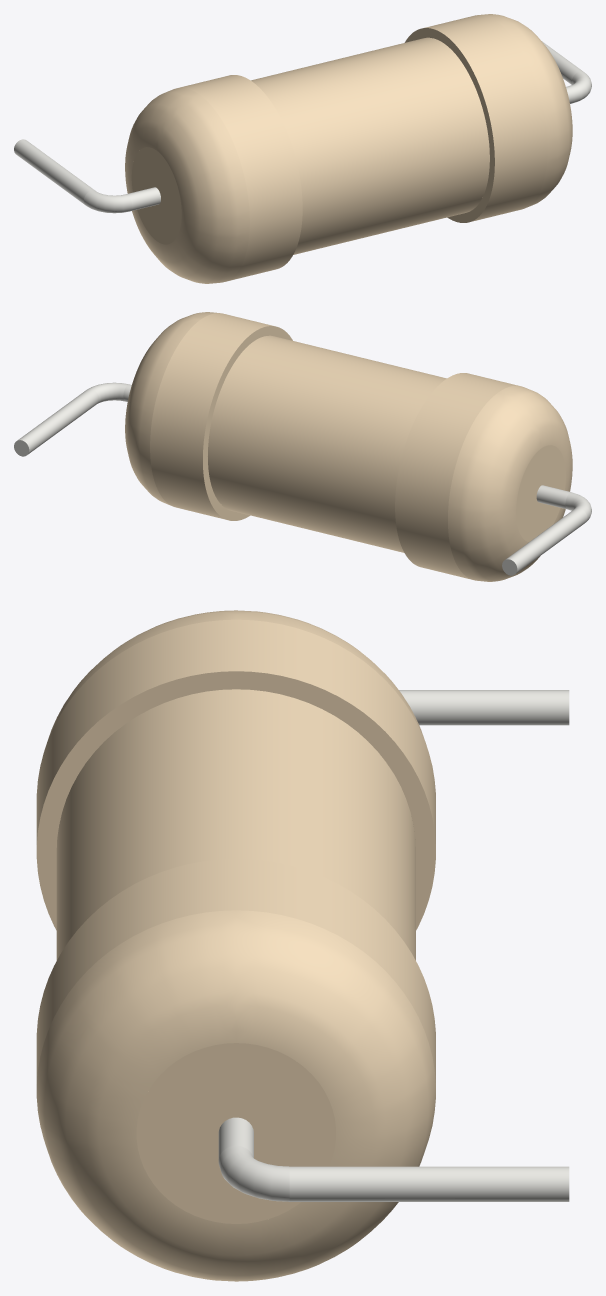
The model's file is R_Axial_DIN0922_L20.0mm_D9.0mm_P25.40mm_Horizontal.glb.
The picture shows the model from 3 angles, top to bottom: view 1: azimuth 30°, elevation 25°; view 2: azimuth 150°, elevation 25°; view 3: azimuth 270°, elevation 25°; orthographic projection. The views are drawn at different scales.
Visible parts, largest first — view 1: Shape_IndexedFaceSet.004, Shape_IndexedFaceSet.001, Shape_IndexedFaceSet, Shape_IndexedFaceSet.008, Shape_IndexedFaceSet.010, Shape_IndexedFaceSet.003, Shape_IndexedFaceSet.006, Shape_IndexedFaceSet.009, Shape_IndexedFaceSet.007, Shape_IndexedFaceSet.005, Shape_IndexedFaceSet.014, Shape_IndexedFaceSet.015; view 2: Shape_IndexedFaceSet.004, Shape_IndexedFaceSet.001, Shape_IndexedFaceSet, Shape_IndexedFaceSet.008, Shape_IndexedFaceSet.010, Shape_IndexedFaceSet.003, Shape_IndexedFaceSet.006, Shape_IndexedFaceSet.009, Shape_IndexedFaceSet.015, Shape_IndexedFaceSet.005, Shape_IndexedFaceSet.014, Shape_IndexedFaceSet.007; view 3: Shape_IndexedFaceSet.010, Shape_IndexedFaceSet.004, Shape_IndexedFaceSet.012, Shape_IndexedFaceSet.008, Shape_IndexedFaceSet, Shape_IndexedFaceSet.002, Shape_IndexedFaceSet.015, Shape_IndexedFaceSet.009, Shape_IndexedFaceSet.001, Shape_IndexedFaceSet.014, Shape_IndexedFaceSet.013.
Boxes of the visible parts, left/top/right/bottom form: Shape_IndexedFaceSet.004: left=251, top=37, right=489, bottom=254; Shape_IndexedFaceSet.001: left=125, top=87, right=249, bottom=283; Shape_IndexedFaceSet: left=179, top=75, right=302, bottom=281; Shape_IndexedFaceSet.008: left=423, top=15, right=547, bottom=221; Shape_IndexedFaceSet.010: left=480, top=14, right=572, bottom=207; Shape_IndexedFaceSet.003: left=131, top=147, right=181, bottom=244; Shape_IndexedFaceSet.006: left=404, top=28, right=494, bottom=222; Shape_IndexedFaceSet.009: left=14, top=139, right=95, bottom=204; Shape_IndexedFaceSet.007: left=84, top=190, right=132, bottom=213; Shape_IndexedFaceSet.005: left=126, top=187, right=160, bottom=210; Shape_IndexedFaceSet.014: left=568, top=71, right=591, bottom=102; Shape_IndexedFaceSet.015: left=542, top=41, right=583, bottom=84; Shape_IndexedFaceSet.004: left=208, top=335, right=446, bottom=552; Shape_IndexedFaceSet.001: left=448, top=385, right=572, bottom=581; Shape_IndexedFaceSet: left=395, top=373, right=518, bottom=579; Shape_IndexedFaceSet.008: left=150, top=313, right=274, bottom=519; Shape_IndexedFaceSet.010: left=125, top=312, right=217, bottom=505; Shape_IndexedFaceSet.003: left=516, top=445, right=565, bottom=541; Shape_IndexedFaceSet.006: left=203, top=326, right=292, bottom=520; Shape_IndexedFaceSet.009: left=505, top=508, right=587, bottom=573; Shape_IndexedFaceSet.015: left=17, top=389, right=98, bottom=454; Shape_IndexedFaceSet.005: left=536, top=485, right=570, bottom=509; Shape_IndexedFaceSet.014: left=88, top=382, right=128, bottom=403; Shape_IndexedFaceSet.007: left=565, top=492, right=591, bottom=521; Shape_IndexedFaceSet.010: left=36, top=910, right=435, bottom=1281; Shape_IndexedFaceSet.004: left=56, top=689, right=415, bottom=960; Shape_IndexedFaceSet.012: left=136, top=1043, right=335, bottom=1223; Shape_IndexedFaceSet.008: left=36, top=858, right=435, bottom=1083; Shape_IndexedFaceSet: left=36, top=619, right=435, bottom=844; Shape_IndexedFaceSet.002: left=36, top=671, right=435, bottom=930; Shape_IndexedFaceSet.015: left=289, top=1166, right=569, bottom=1201; Shape_IndexedFaceSet.009: left=399, top=690, right=569, bottom=725; Shape_IndexedFaceSet.001: left=45, top=610, right=426, bottom=746; Shape_IndexedFaceSet.014: left=218, top=1145, right=289, bottom=1201; Shape_IndexedFaceSet.013: left=218, top=1117, right=253, bottom=1158.
Size of the model in its own units: 10.31 by 3.54 by 4.72.
